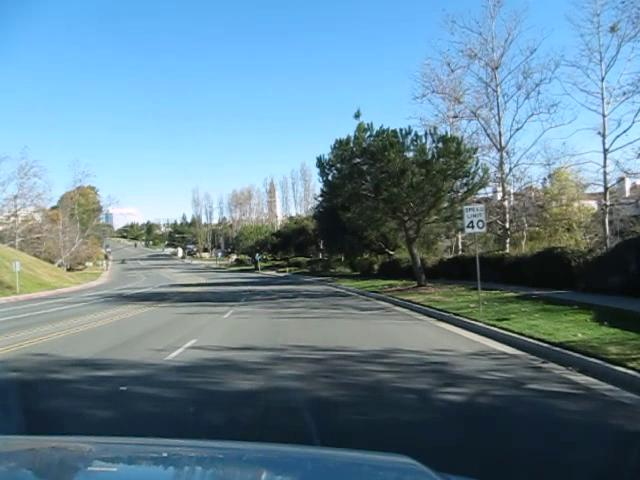speedLimit40: (463, 203, 487, 234)
